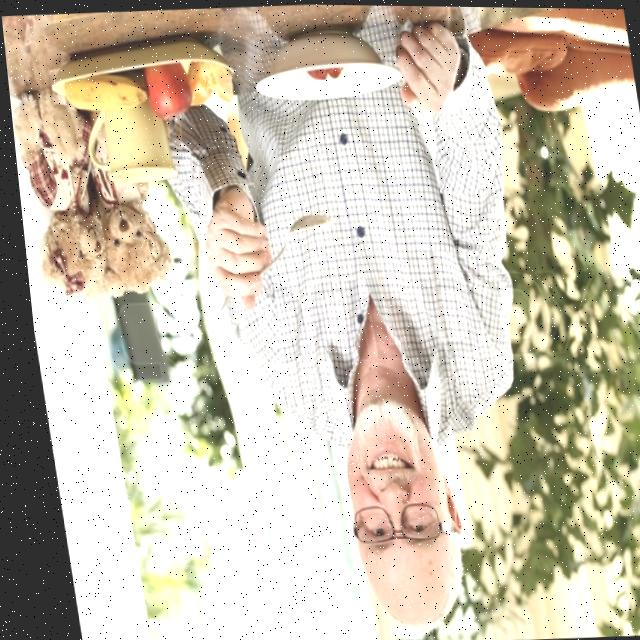eating-person: (32, 4, 545, 640)
